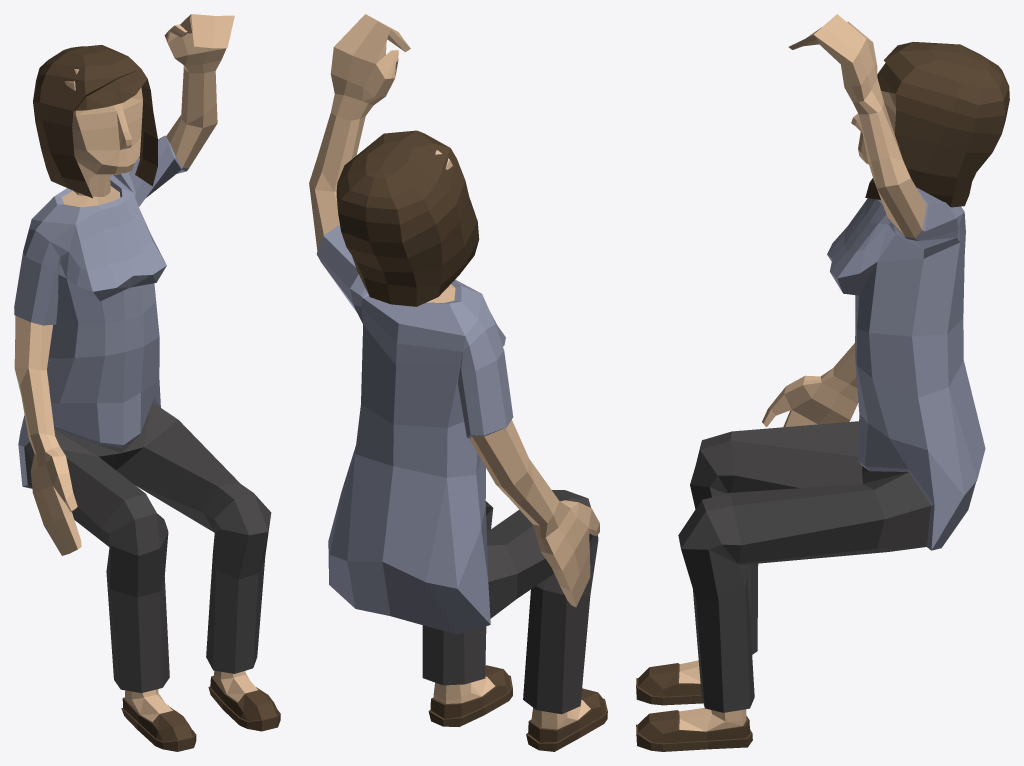
File: Female_Sitting_Cheering.glb
3 views of the same model, side by side, from view 1: azimuth 30°, elevation 25°; view 2: azimuth 150°, elevation 25°; view 3: azimuth 270°, elevation 25° (orthographic). The views are drawn at different scales.
Visible parts, largest first — view 1: Female_Sitting_Cheering; view 2: Female_Sitting_Cheering; view 3: Female_Sitting_Cheering.
Boxes of the visible parts, x1=… form: Female_Sitting_Cheering: x1=14, y1=14, x2=280, y2=751; Female_Sitting_Cheering: x1=309, y1=14, x2=607, y2=751; Female_Sitting_Cheering: x1=636, y1=14, x2=1009, y2=751.
Size of the model in its own units: 0.4828 by 1.46 by 0.6759.
